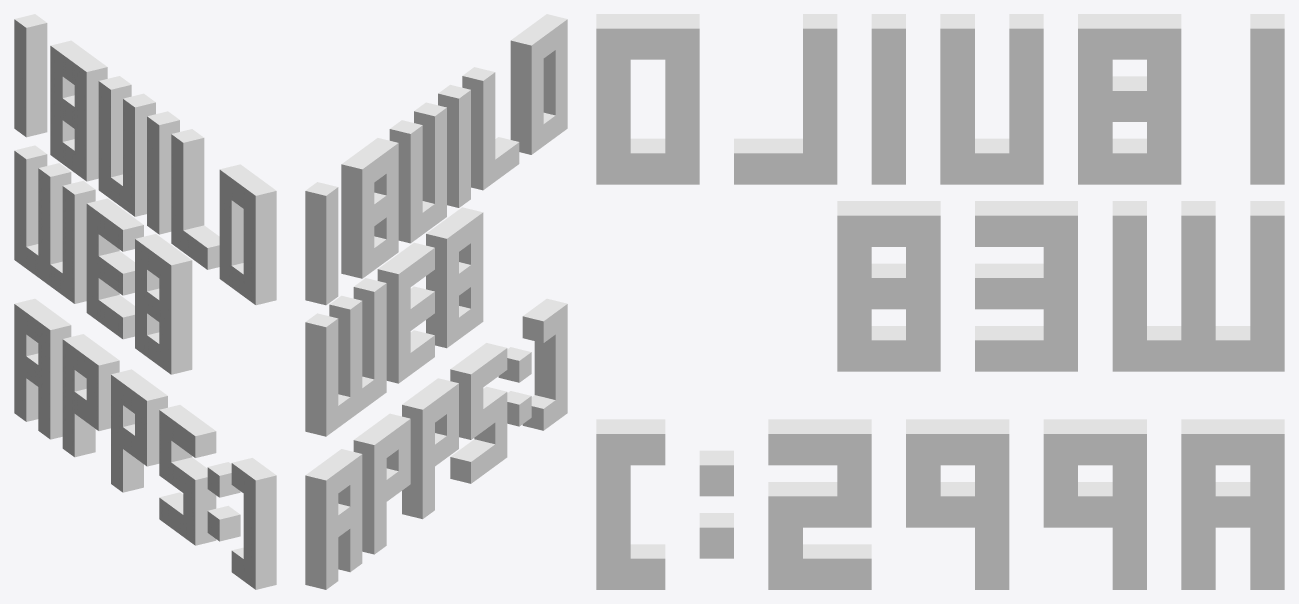
File: sign.glb
3 views of the same model, side by side, from view 1: azimuth 30°, elevation 25°; view 2: azimuth 150°, elevation 25°; view 3: azimuth 270°, elevation 25° (orthographic). The views are drawn at different scales.
Visible parts, largest first — view 1: Node #0; view 2: Node #0; view 3: Node #0.
Part boxes in pixels (x1,y1,x2,y2): Node #0: (14,14,276,589); Node #0: (305,14,567,589); Node #0: (596,14,1284,589).
Bounding box in the file's own units: 1 × 18 × 20.
Materials: 1 (1 with a texture image).
